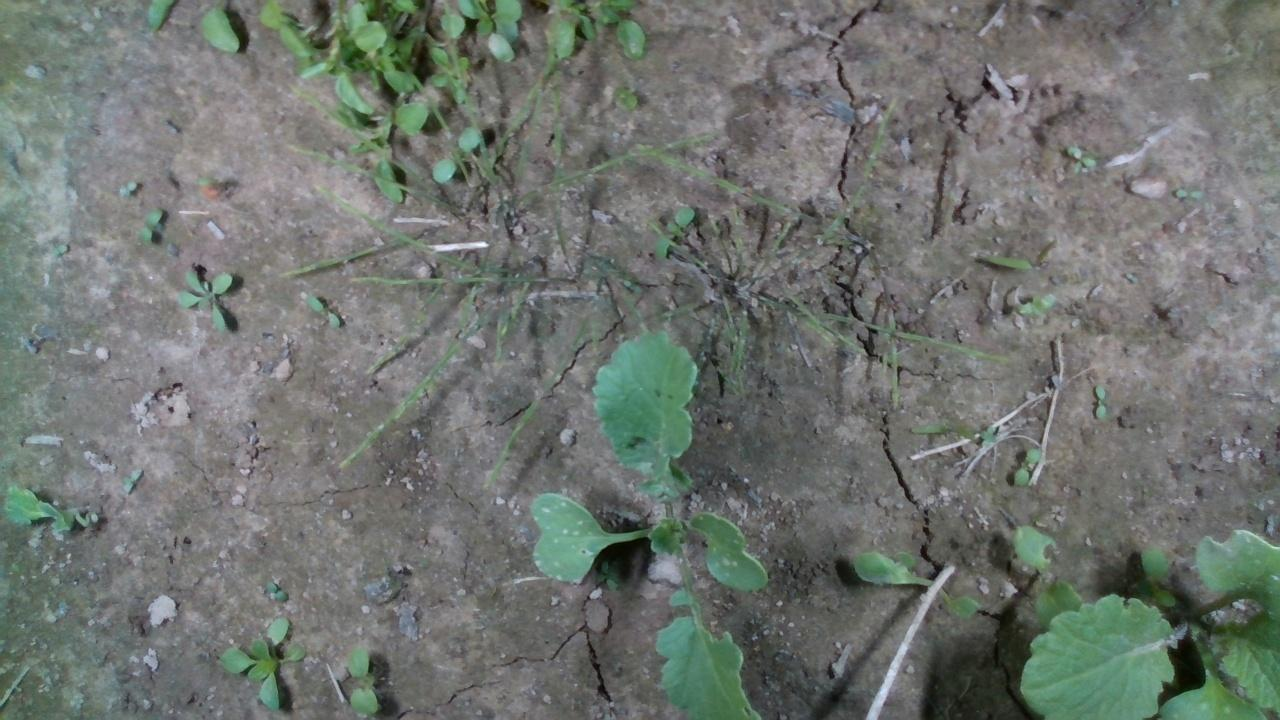weed: (165, 261, 243, 330), (343, 647, 379, 714), (132, 204, 180, 245), (297, 288, 349, 325), (1061, 142, 1099, 181), (1012, 445, 1042, 485), (121, 464, 148, 497), (115, 176, 151, 199), (1093, 384, 1107, 418)
